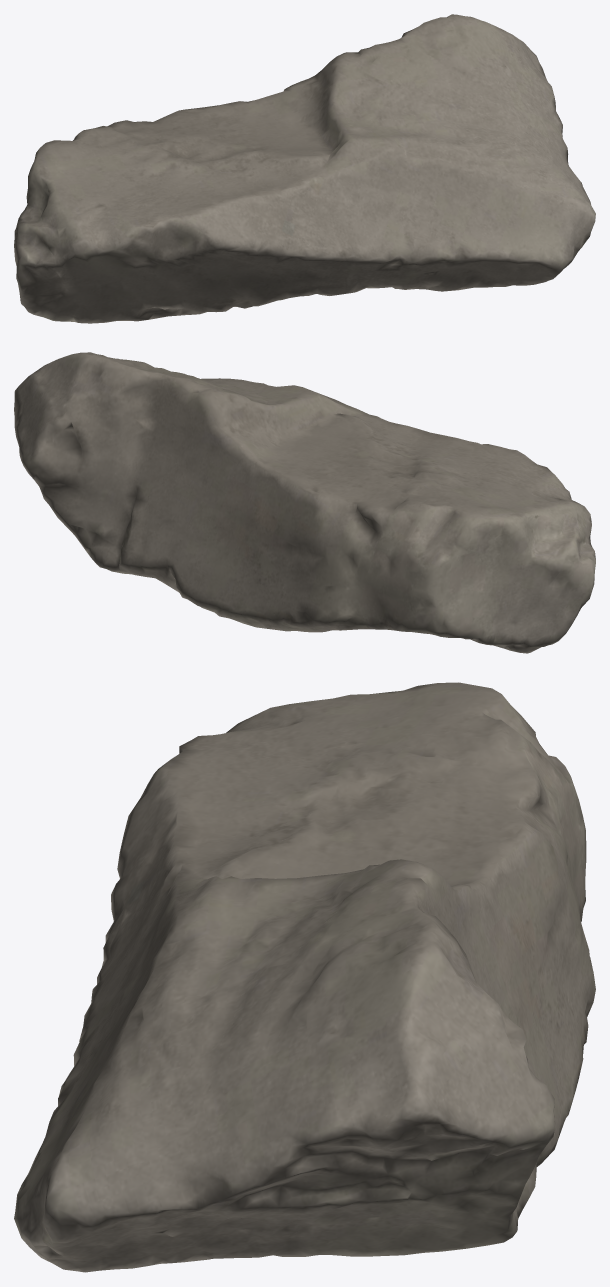
File: moon_rock_01.glb
3 renders of one model, top to bottom at view 1: azimuth 30°, elevation 25°; view 2: azimuth 150°, elevation 25°; view 3: azimuth 270°, elevation 25°, orthographic. The views are drawn at different scales.
Visible parts, largest first — view 1: moon_rock_01_LOD0; view 2: moon_rock_01_LOD0; view 3: moon_rock_01_LOD0.
Boxes of the visible parts, box(x1,y1,x2,y2) form: moon_rock_01_LOD0: box(14, 14, 595, 323); moon_rock_01_LOD0: box(14, 352, 595, 653); moon_rock_01_LOD0: box(14, 682, 595, 1272).
Size of what is drawn, in the model's own units: 0.2121 by 0.0751 by 0.1116.
Materials: 1 (1 with a texture image).
